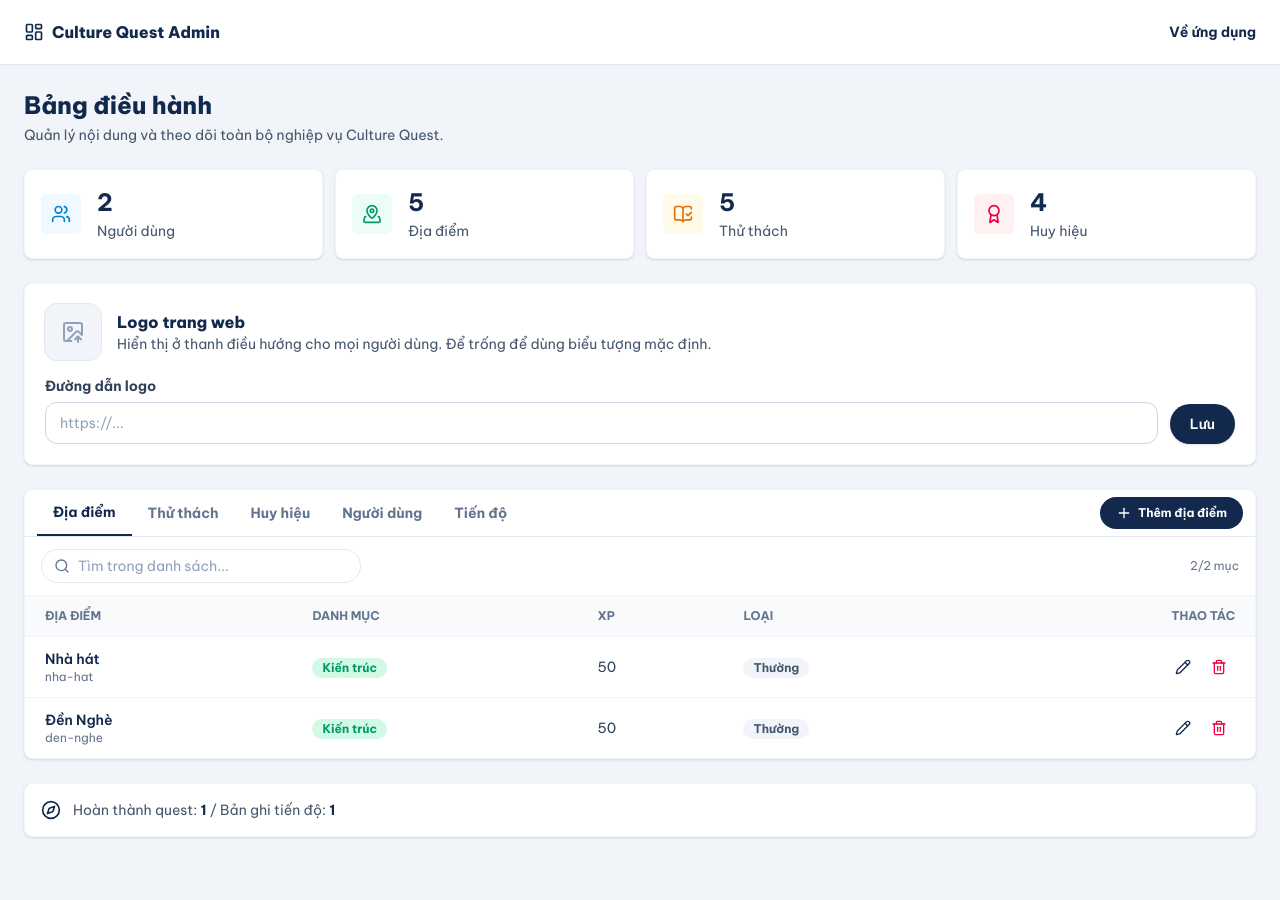
Test: AdminPage › locations › keeps the form open and explains a duplicate slug
Click the button named "Sửa Nhà hát". click: [1183, 667]
box: 1167,651 -> 1199,683
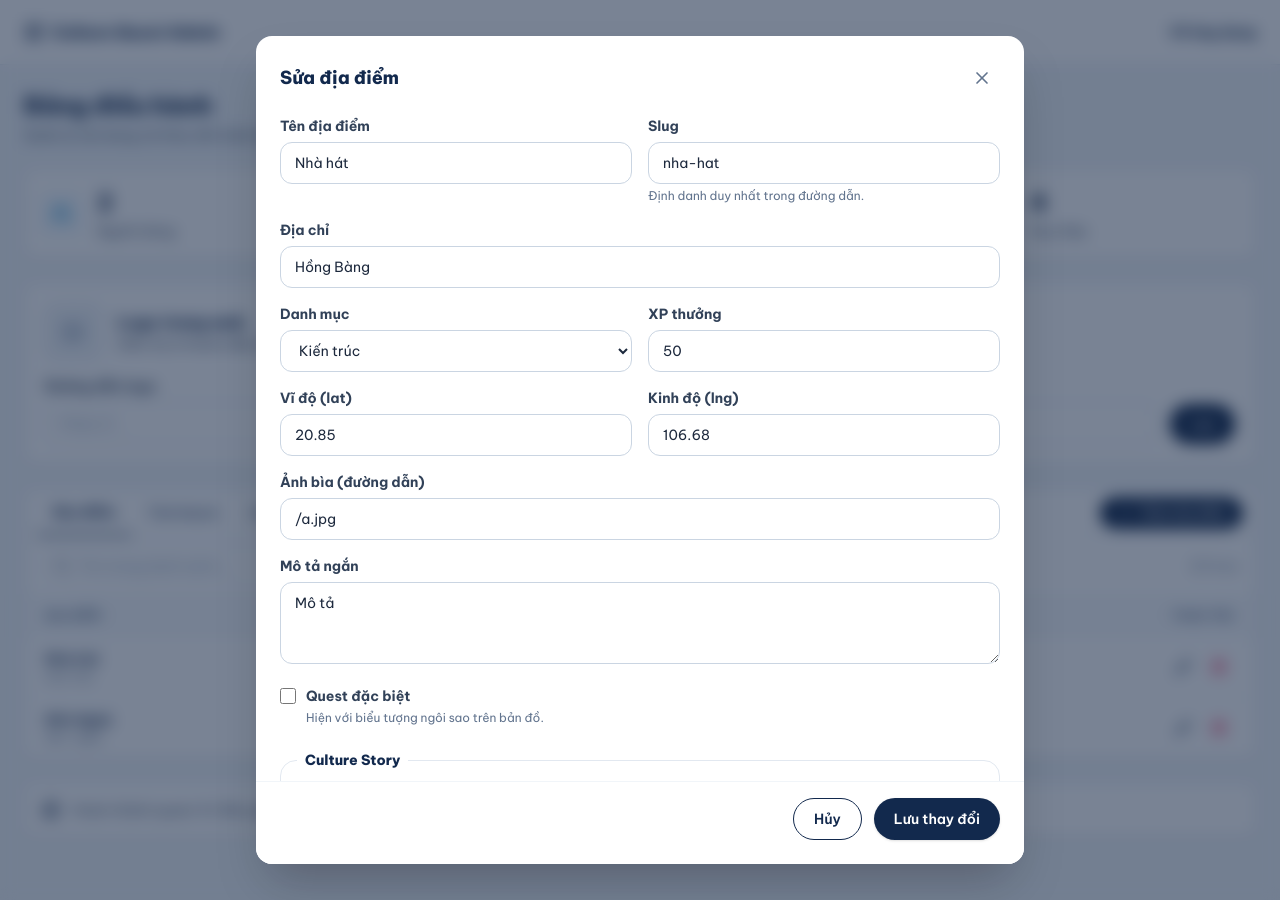
Click the button "Lưu thay đổi". click: [937, 819]
box: 874,798 -> 1000,840
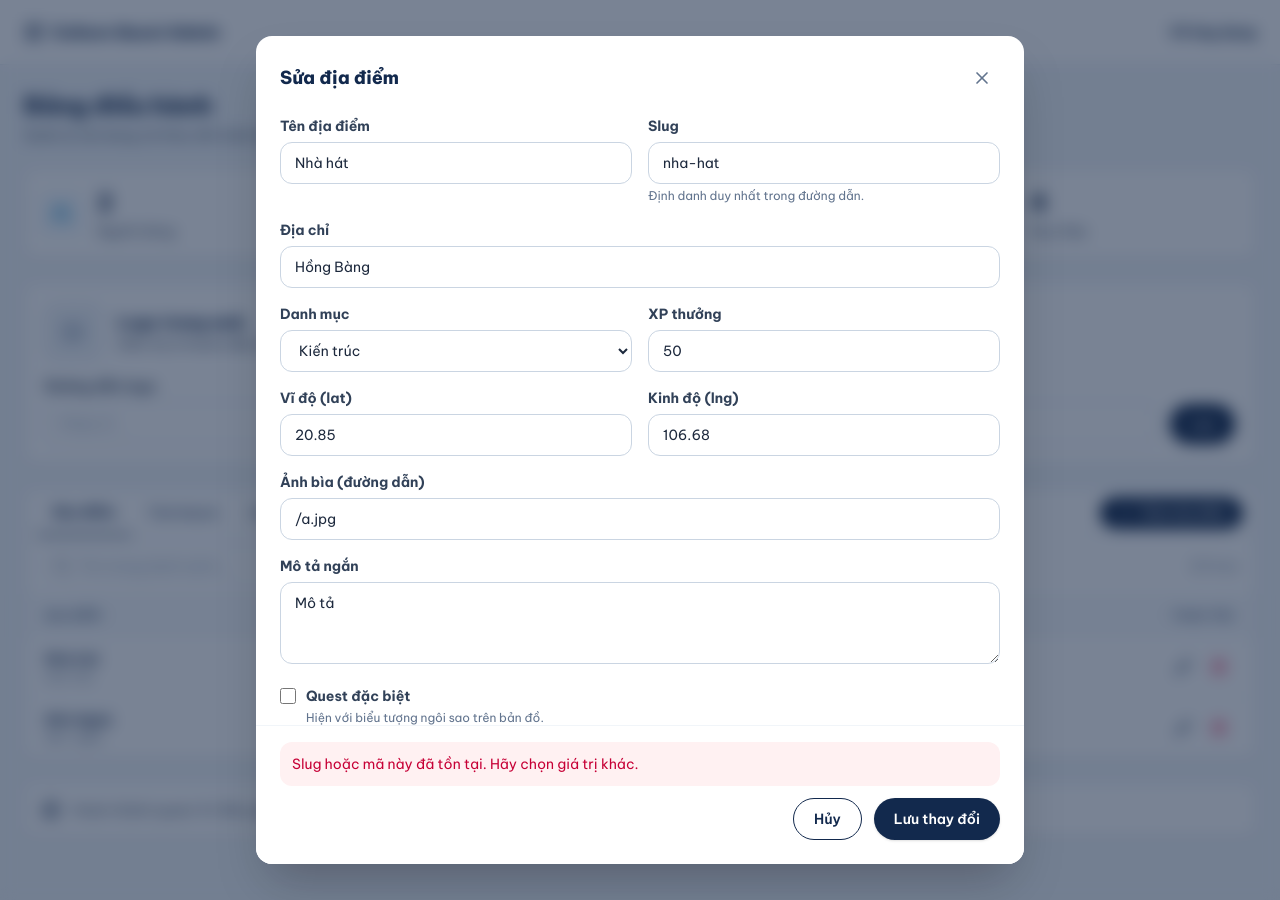
expect the dialog is shown: met, box 256,36 -> 1024,864
expect the message shows "Slug hoặc mã này đã tồn tại": met, box 292,755 -> 639,773
